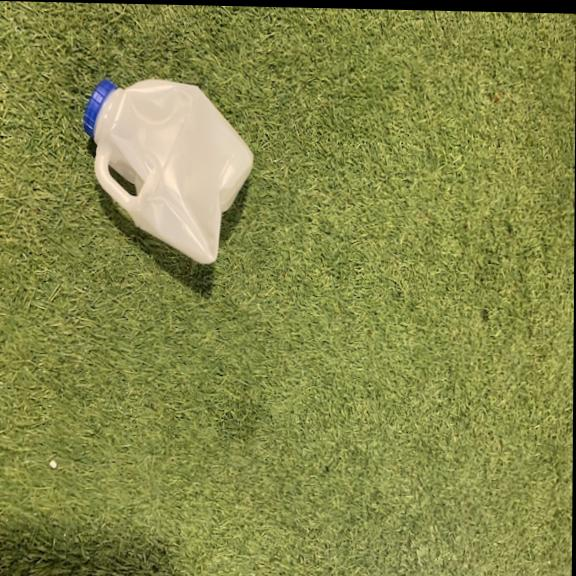Plastik: (83, 74, 267, 272)
